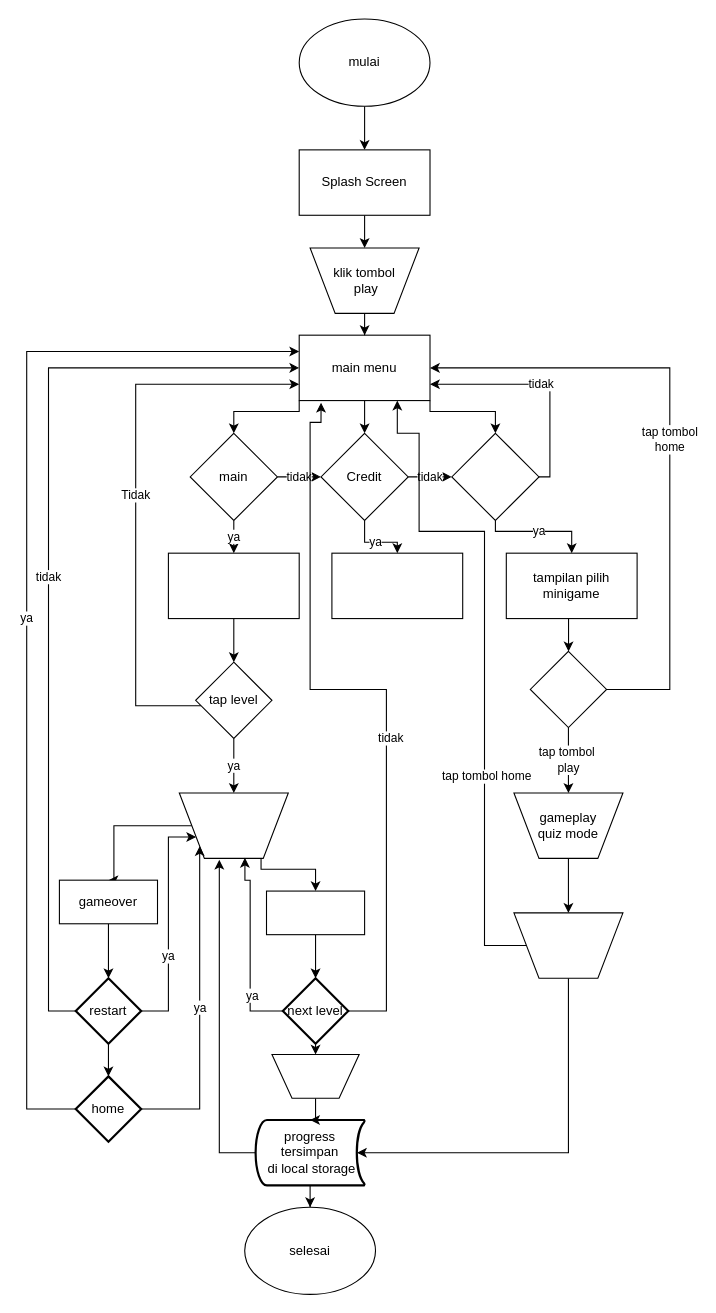
This 716x1313 diagram has some shape labels left out. Here are the shapes that lost their labels. From the top down, the box of each, then its label:
(451, 432, 539, 520): ekstra
(167, 552, 299, 619): pilih level
(331, 552, 463, 619): tampilan kredit
(178, 792, 288, 858): gameplay story mode
(265, 890, 365, 935): level complete
(513, 912, 623, 978): popUp gameover dan level complete
(271, 1053, 359, 1098): tap tombol next level
